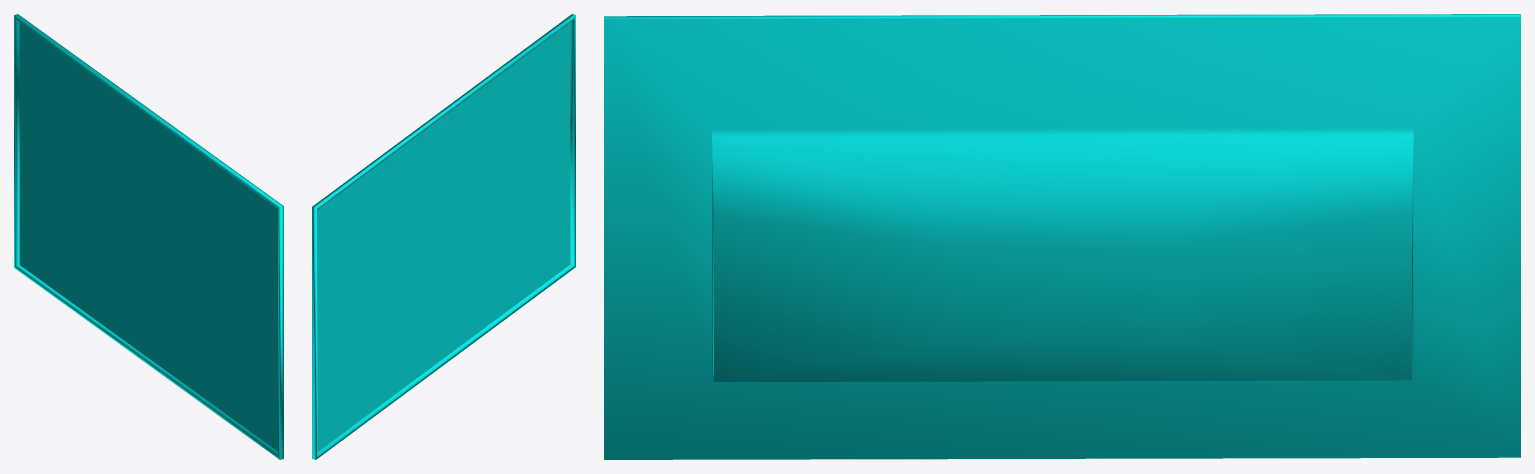
The model's file is mdl_Corredor_TV_centro.fbx.
3 views of the same model, side by side, from view 1: azimuth 30°, elevation 25°; view 2: azimuth 150°, elevation 25°; view 3: azimuth 270°, elevation 25° (orthographic). The views are drawn at different scales.
Visible parts, largest first — view 1: mdl_Corredor_TV_centro; view 2: mdl_Corredor_TV_centro; view 3: mdl_Corredor_TV_centro.
Boxes of the visible parts, <box> form: mdl_Corredor_TV_centro: <box>14,14,283,459</box>; mdl_Corredor_TV_centro: <box>312,14,575,459</box>; mdl_Corredor_TV_centro: <box>604,14,1520,459</box>.
Size of the model in its own units: 0.4879 by 2.64 by 4.98.
